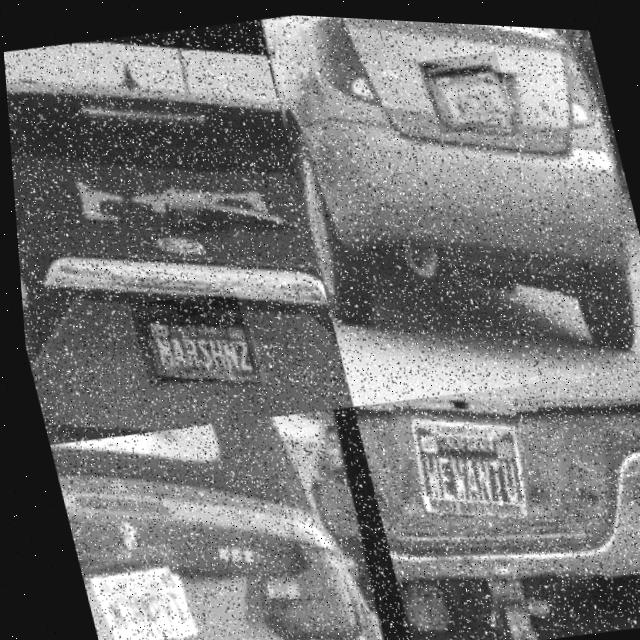LicensePlate: (380, 383, 534, 531), (67, 537, 189, 640), (127, 302, 250, 372), (420, 42, 514, 133)
